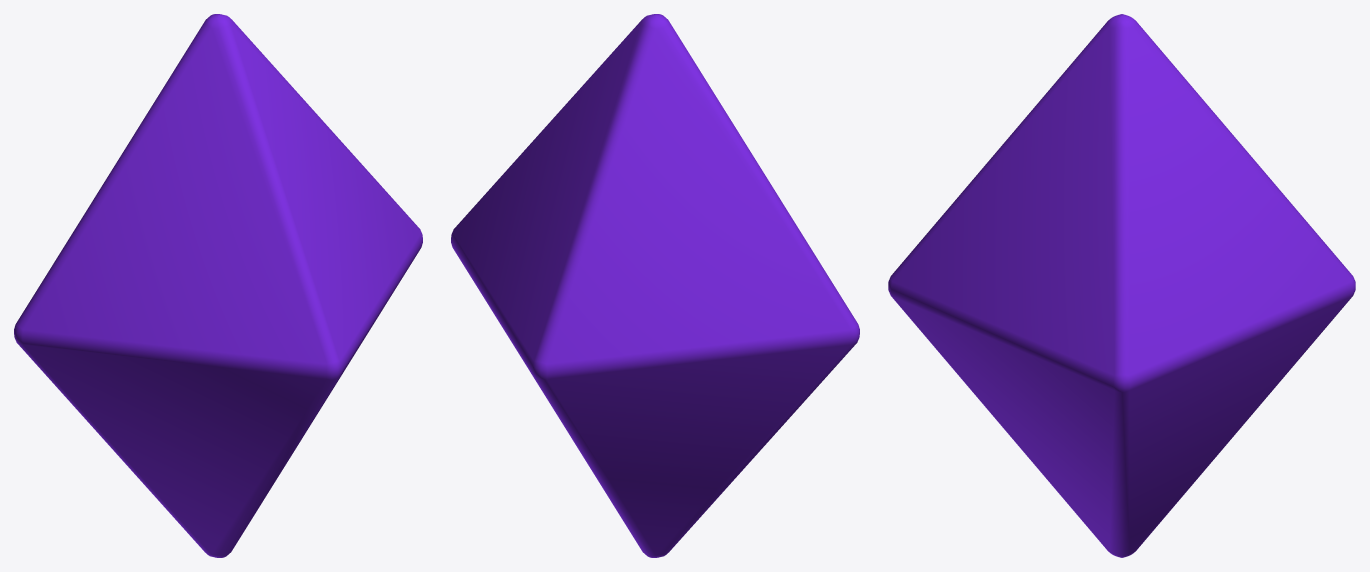
The model's file is caixosa.fbx.
3 renders of one model, left to right at view 1: azimuth 30°, elevation 25°; view 2: azimuth 150°, elevation 25°; view 3: azimuth 270°, elevation 25°, orthographic.
Visible parts, largest first — view 1: Cube.002; view 2: Cube.002; view 3: Cube.002.
Part boxes in pixels (<box>): Cube.002: <box>14,14,422,557</box>; Cube.002: <box>451,14,859,557</box>; Cube.002: <box>888,14,1355,557</box>.
Bounding box in the file's own units: 271 × 347 × 271.
